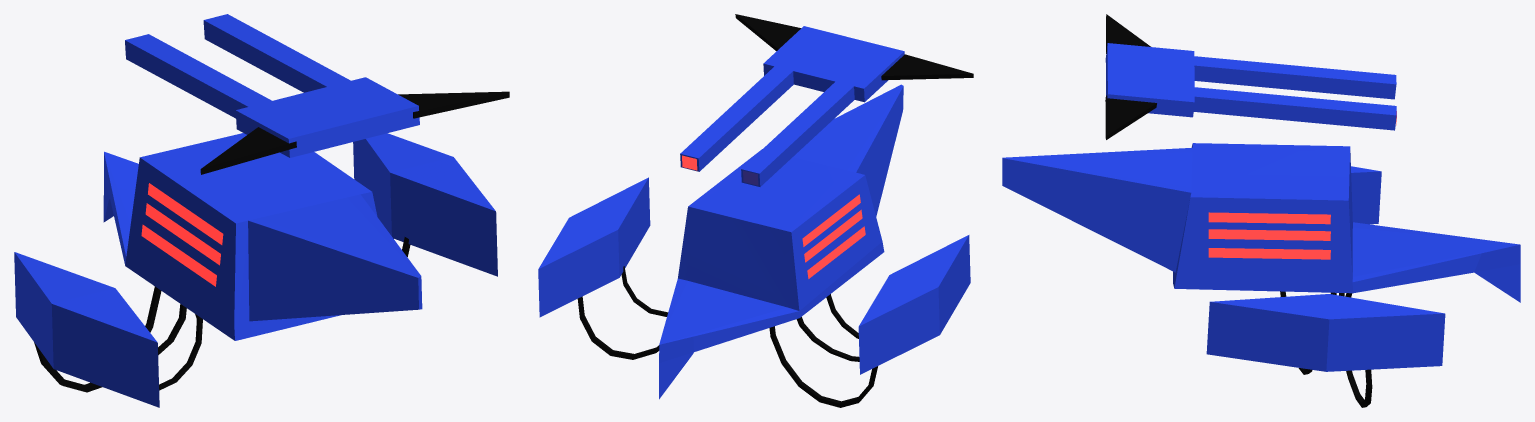
File: flying-bot.fbx
3 views of the same model, side by side, from view 1: azimuth 30°, elevation 25°; view 2: azimuth 150°, elevation 25°; view 3: azimuth 270°, elevation 25° (orthographic). The views are drawn at different scales.
Visible parts, largest first — view 1: Cube.002; view 2: Cube.002; view 3: Cube.002.
Part boxes in pixels (box(x1,y1,x2,y2)): Cube.002: box(14, 14, 509, 407); Cube.002: box(538, 14, 973, 407); Cube.002: box(1002, 14, 1520, 407).
Size of the model in its own units: 830 by 619 by 1031.
